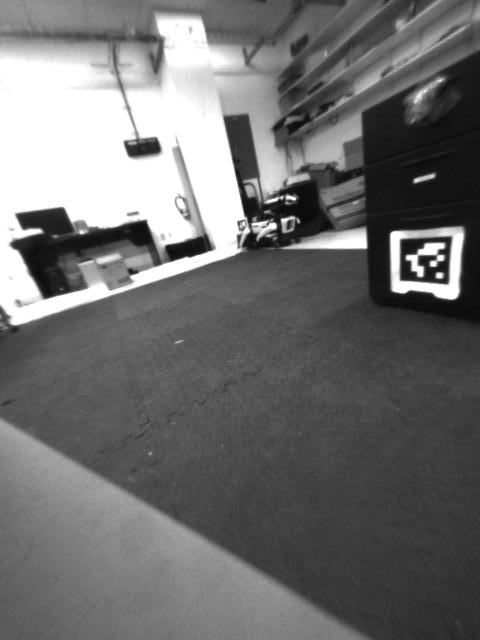drawer: (396, 78, 460, 127)
